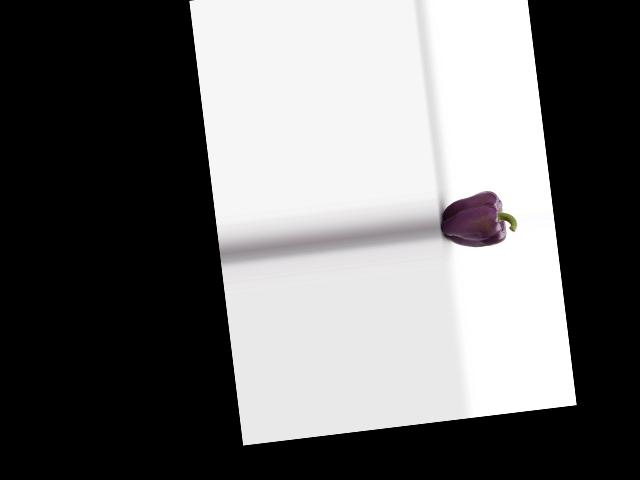bell_pepper: (438, 183, 518, 257)
